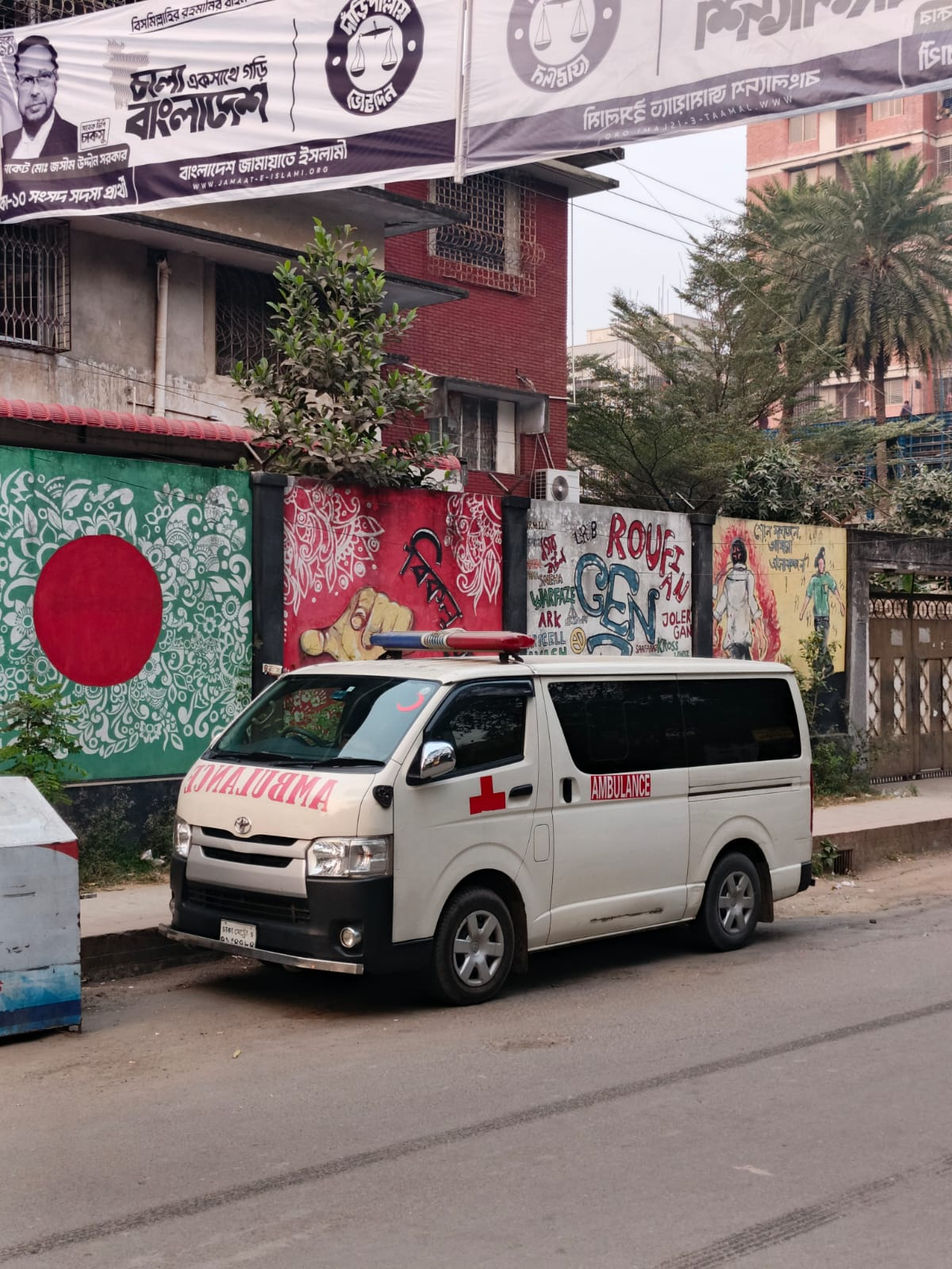Ambulance: (159, 603, 853, 1010)
